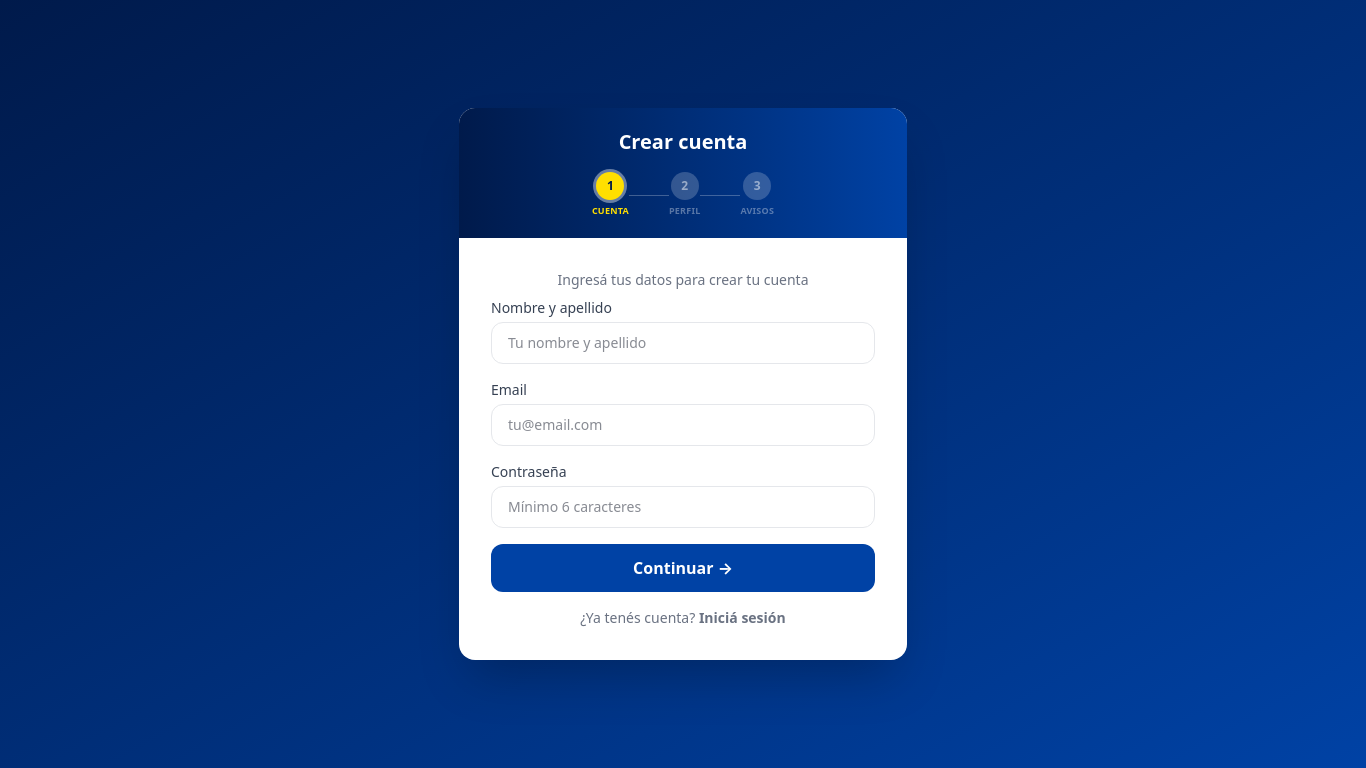
it: Register — handleAllowNotifications/Skip › NO hay botón para saltear notificaciones — son obligatorias
Type "C" into the field with placeholder "Tu nombre y apellido". click: (683, 343)
box: x1=491 y1=322 x2=875 y2=364
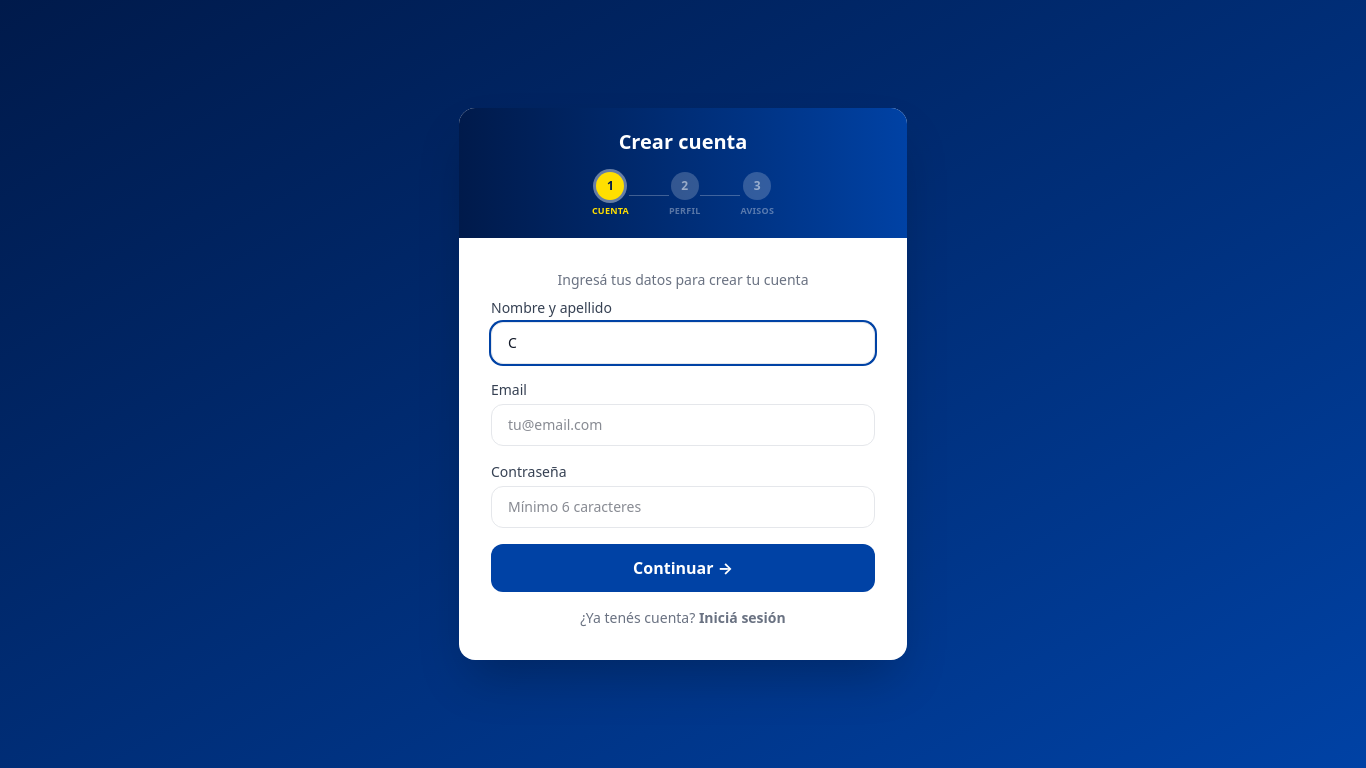
Type "c@x.com" into the field with placeholder "tu@email.com". click: (683, 425)
box: x1=491 y1=404 x2=875 y2=446
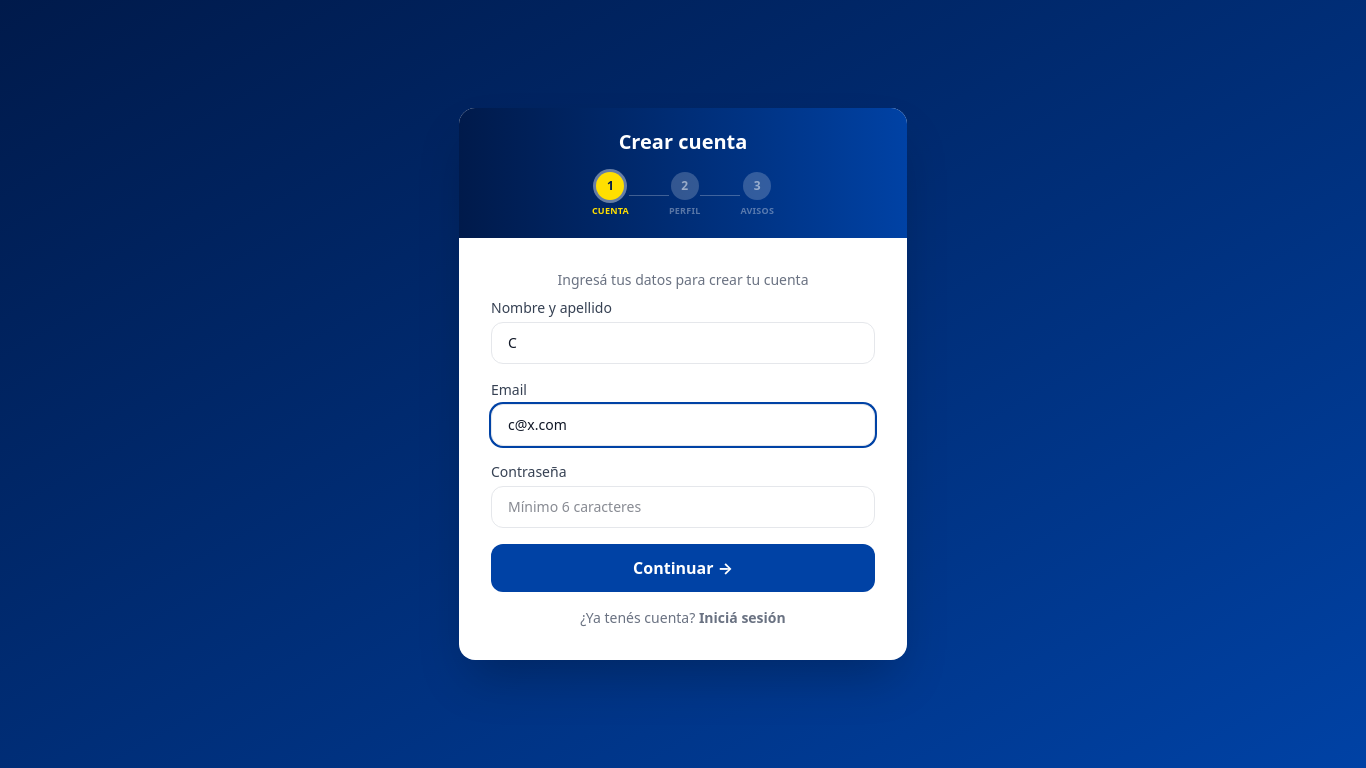
Type "pass123" into the password field with placeholder "Mínimo 6 caracteres". click: (683, 507)
box: x1=491 y1=486 x2=875 y2=528
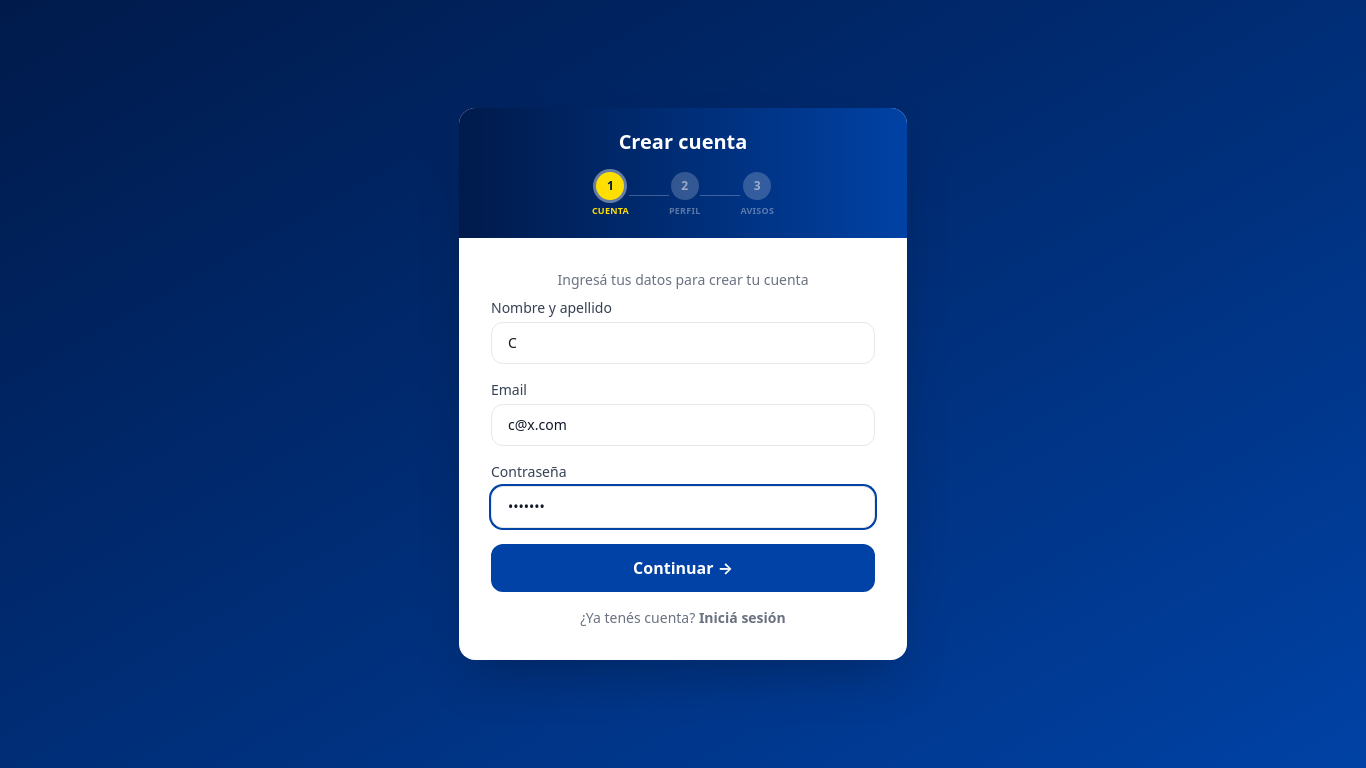
Click the button "Continuar →". click: (683, 568)
box: x1=491 y1=544 x2=875 y2=592
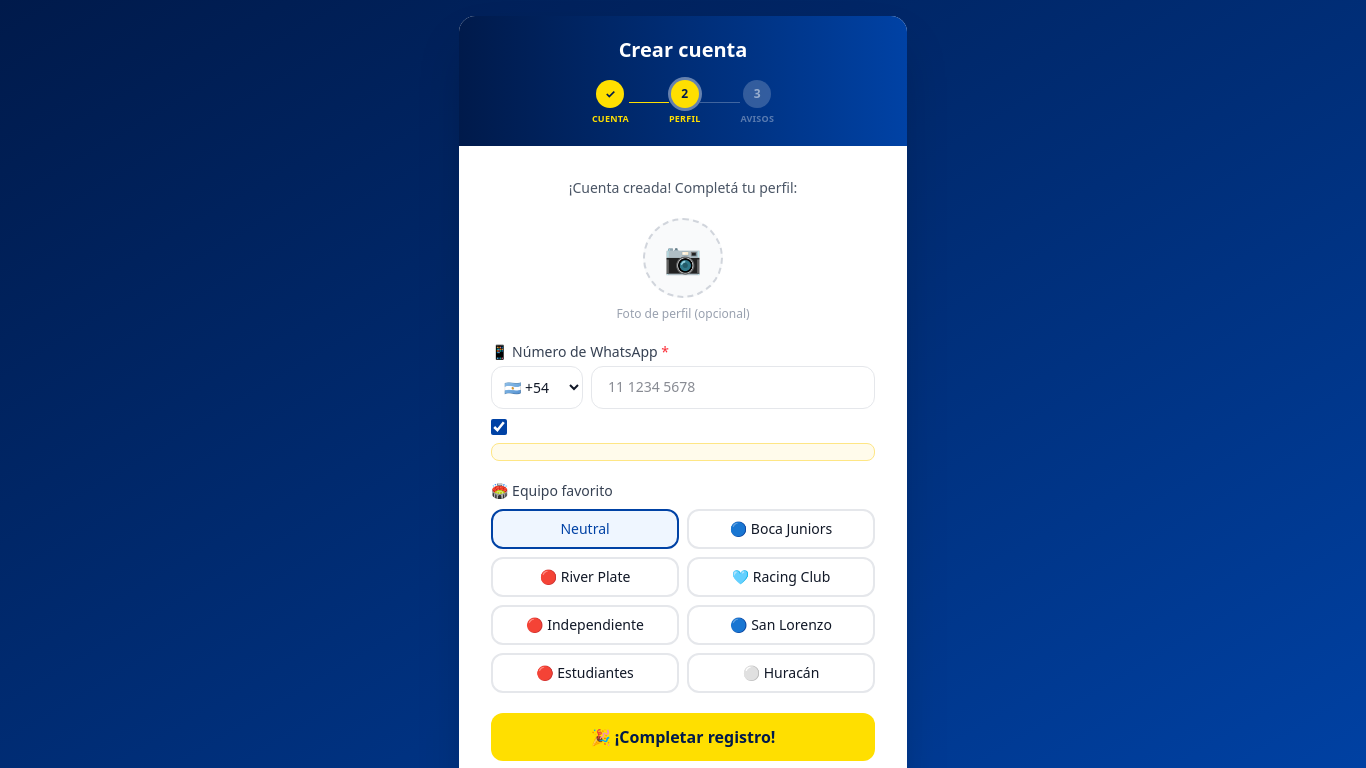
Check: the text "¡Cuenta creada! Completá tu perfil:" is shown, box x1=569 y1=178 x2=797 y2=196
Type "1155996222" into the field with placeholder "11 1234 5678". click: (733, 387)
box: x1=591 y1=366 x2=875 y2=408
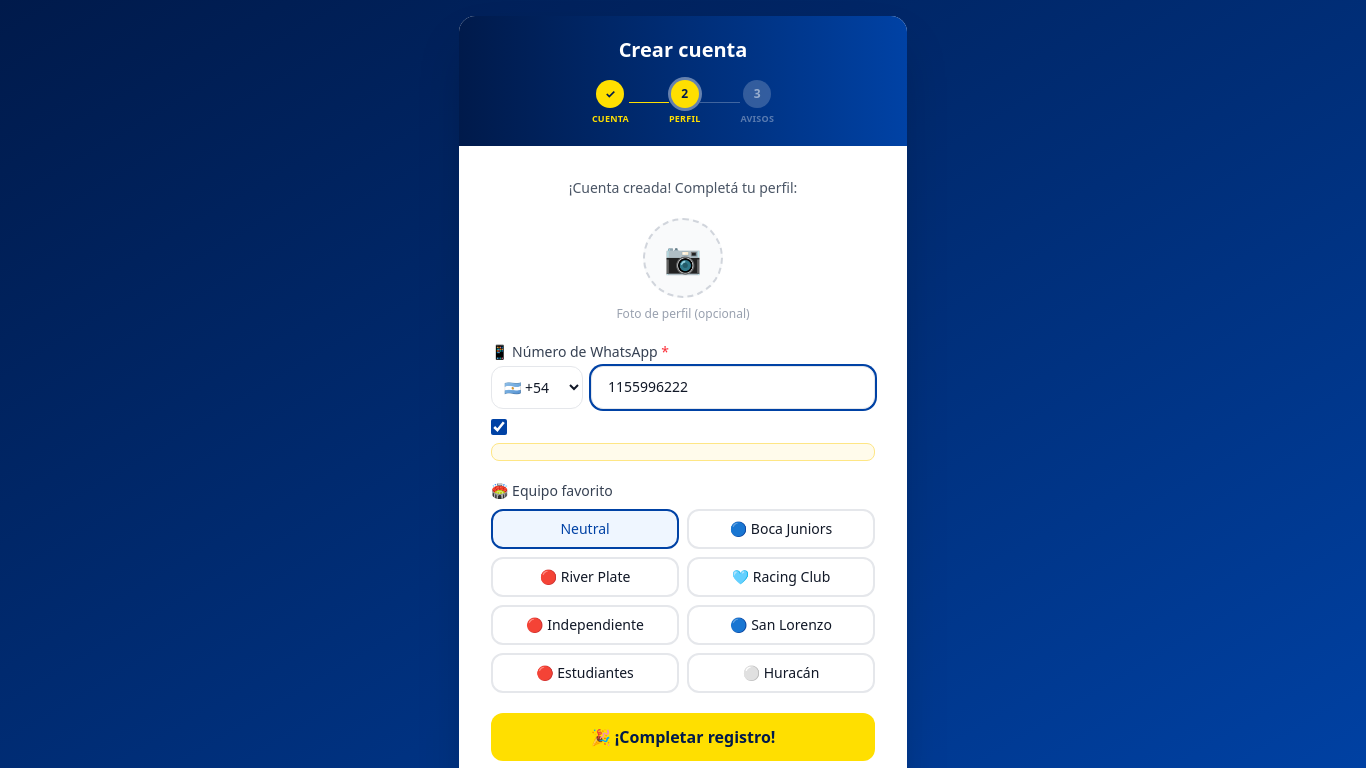
Click the button "🎉 ¡Completar registro!". click: (683, 736)
box: x1=491 y1=712 x2=875 y2=760
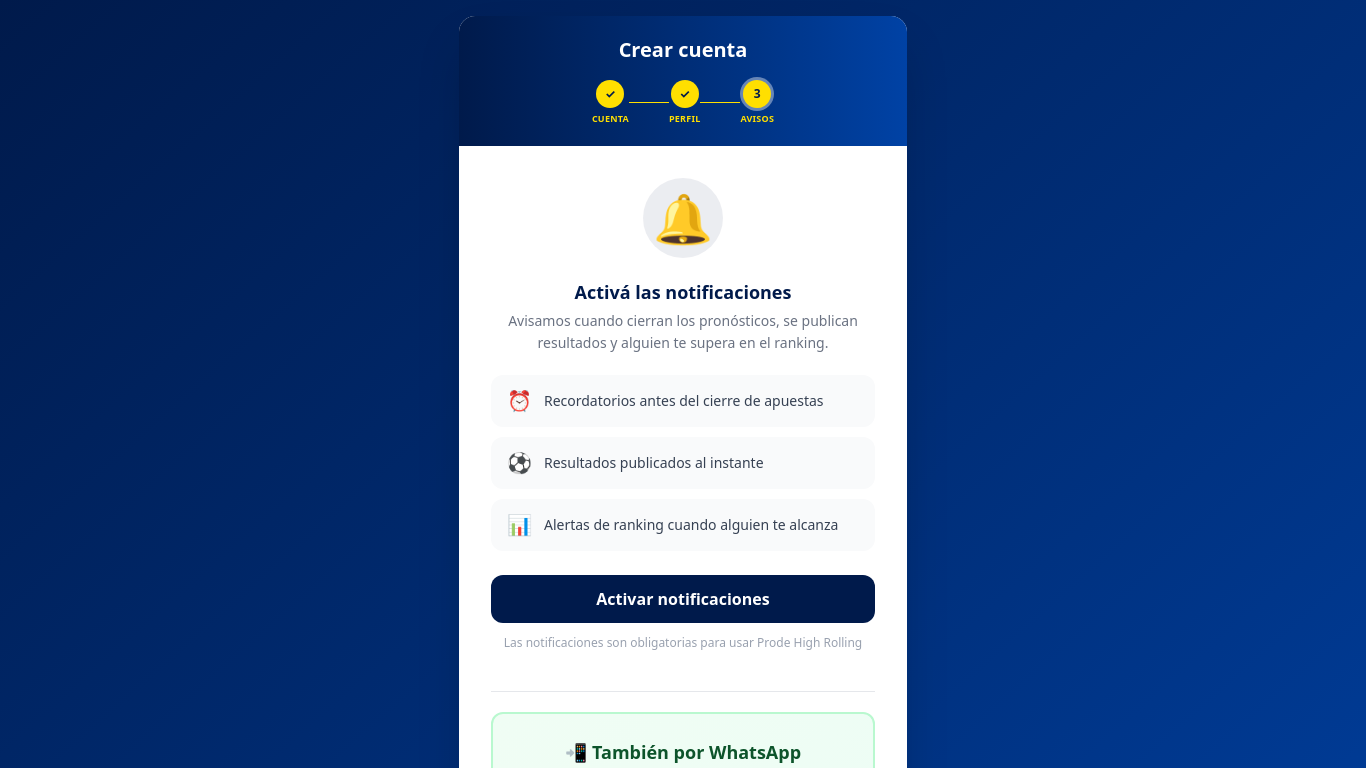
Check: the heading "Activá las notificaciones" is shown, box x1=574 y1=280 x2=791 y2=304
